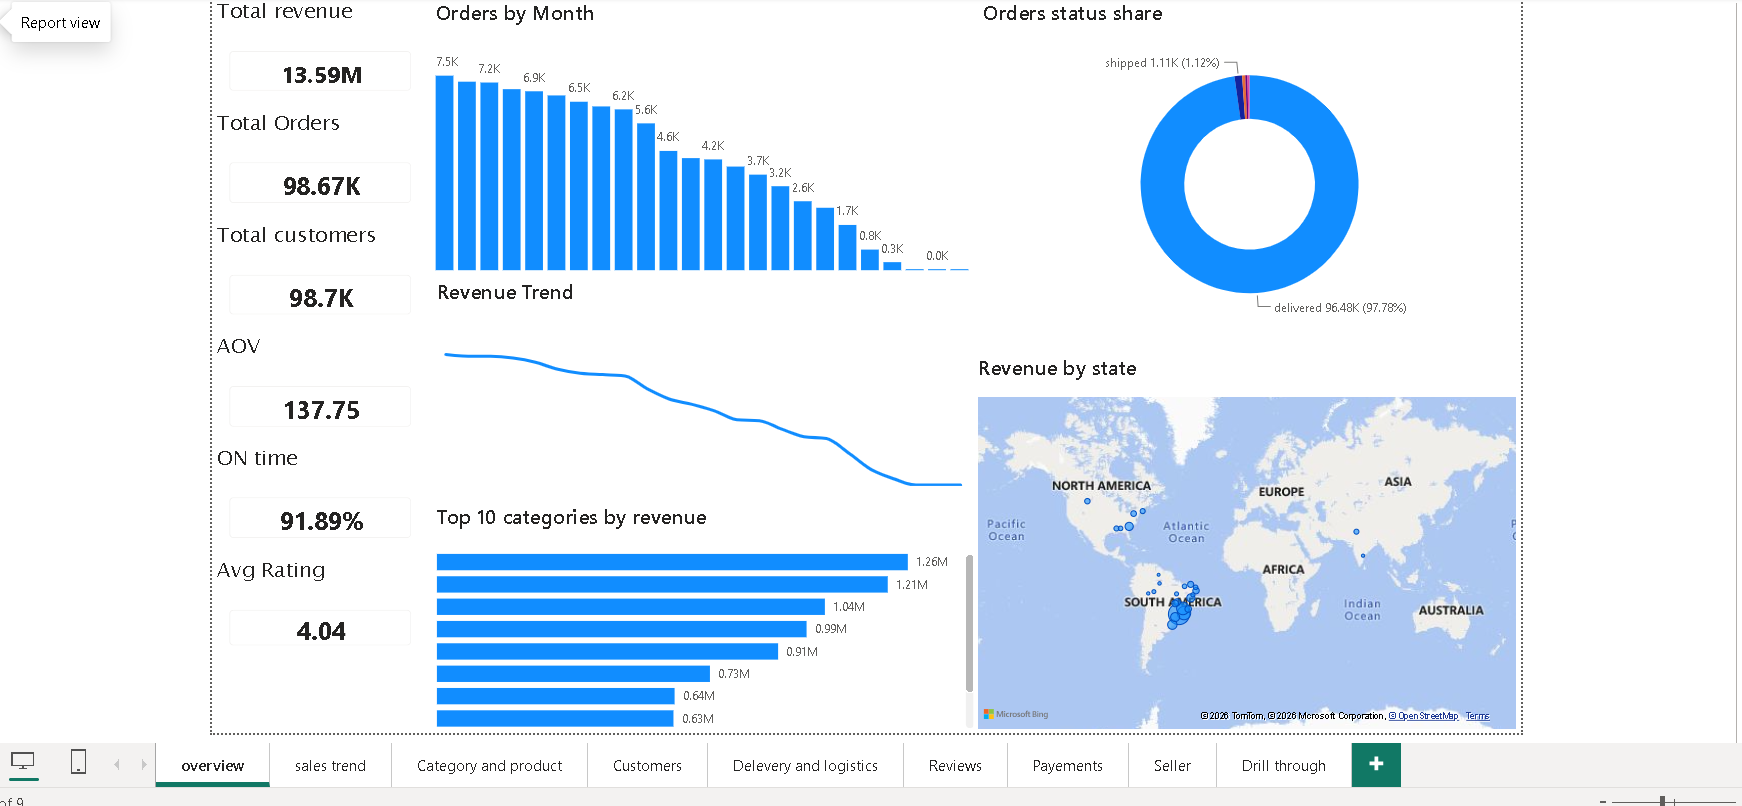

What the dashboard file says about the page in this screenshot:
{"tool":"powerbi","page":{"name":"overview","canvas":[1280,720],"ordinal":0},"visuals":[{"type":"cardVisual","title":"Total revenue","fields":{"Data":["fact_sales.Revenue"]},"box":[0,0,212.8,108.8],"z":0},{"type":"cardVisual","title":"Total Orders","fields":{"Data":["fact_sales.Orders"]},"box":[0,108.8,212.8,110.1],"z":1000},{"type":"cardVisual","title":"Total customers","fields":{"Data":["fact_sales.Customers"]},"box":[0,218.9,212.8,108.8],"z":2000},{"type":"cardVisual","title":"AOV","fields":{"Data":["fact_sales.AOV"]},"box":[0,327.7,212.8,110.1],"z":3000},{"type":"cardVisual","title":"ON time ","fields":{"Data":["fact_sales.On-time %"]},"box":[0,436.6,212.8,110.1],"z":4000},{"type":"cardVisual","title":"Avg Rating","fields":{"Data":["fact_sales.Avg Rating"]},"box":[0,546.6,212.8,105.2],"z":5000},{"type":"lineChart","title":"Revenue Trend","fields":{"Y":["fact_sales.Revenue"],"Category":["DimDate.Year-Month"]},"box":[215,273.3,531.3,210.8],"z":6000},{"type":"clusteredColumnChart","title":"Orders by Month","fields":{"Category":["DimDate.Year-Month"],"Y":["fact_sales.Orders"]},"box":[213.6,0,531.3,273.3],"z":7000},{"type":"barChart","title":"Top 10 categories by revenue","fields":{"Category":["fact_sales.category"],"Y":["fact_sales.Revenue"]},"box":[215,492.4,535.4,227.5],"z":8000},{"type":"map","title":"Revenue by state","fields":{"Category":["olist_customers_dataset.customer_state"],"Size":["fact_sales.Revenue"]},"box":[744.7,346.7,535.6,373.7],"z":9000},{"type":"donutChart","title":"Orders status share","fields":{"Category":["fact_sales.order_status"],"Y":["fact_sales.Orders"]},"box":[749,0,531.3,327.4],"z":10000}]}

Visuals, with their boxes on the page's 1280x720 design canvas (x1, y1, x2, y2). These are canvas units, not pixel positions in the 1742x806 screenshot, which may show the page scaled, cropped or inside an application window:
"Total revenue" cardVisual: (left=0, top=0, right=213, bottom=109)
"Total Orders" cardVisual: (left=0, top=109, right=213, bottom=219)
"Total customers" cardVisual: (left=0, top=219, right=213, bottom=328)
"AOV" cardVisual: (left=0, top=328, right=213, bottom=438)
"ON time " cardVisual: (left=0, top=437, right=213, bottom=547)
"Avg Rating" cardVisual: (left=0, top=547, right=213, bottom=652)
"Revenue Trend" lineChart: (left=215, top=273, right=746, bottom=484)
"Orders by Month" clusteredColumnChart: (left=214, top=0, right=745, bottom=273)
"Top 10 categories by revenue" barChart: (left=215, top=492, right=750, bottom=720)
"Revenue by state" map: (left=745, top=347, right=1280, bottom=720)
"Orders status share" donutChart: (left=749, top=0, right=1280, bottom=327)
